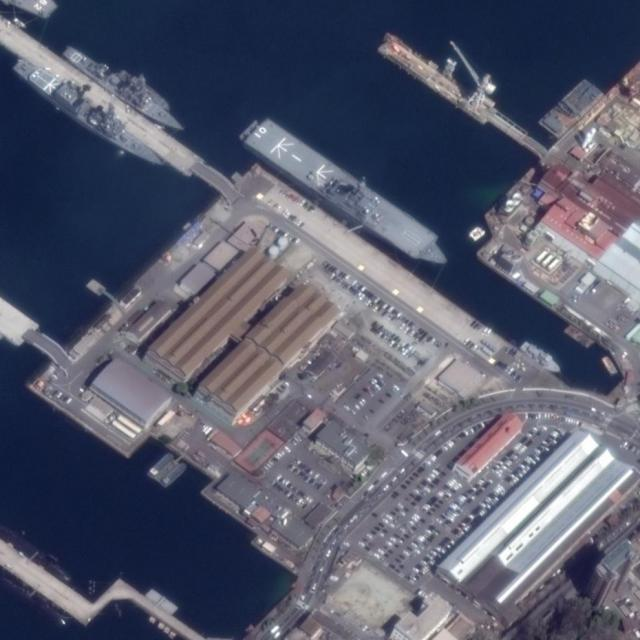Destroyer: (10, 55, 167, 178)
Landing: (236, 111, 458, 275)
Other Warship: (60, 29, 198, 143)
Submarine: (1, 529, 72, 582), (1, 573, 69, 626)
